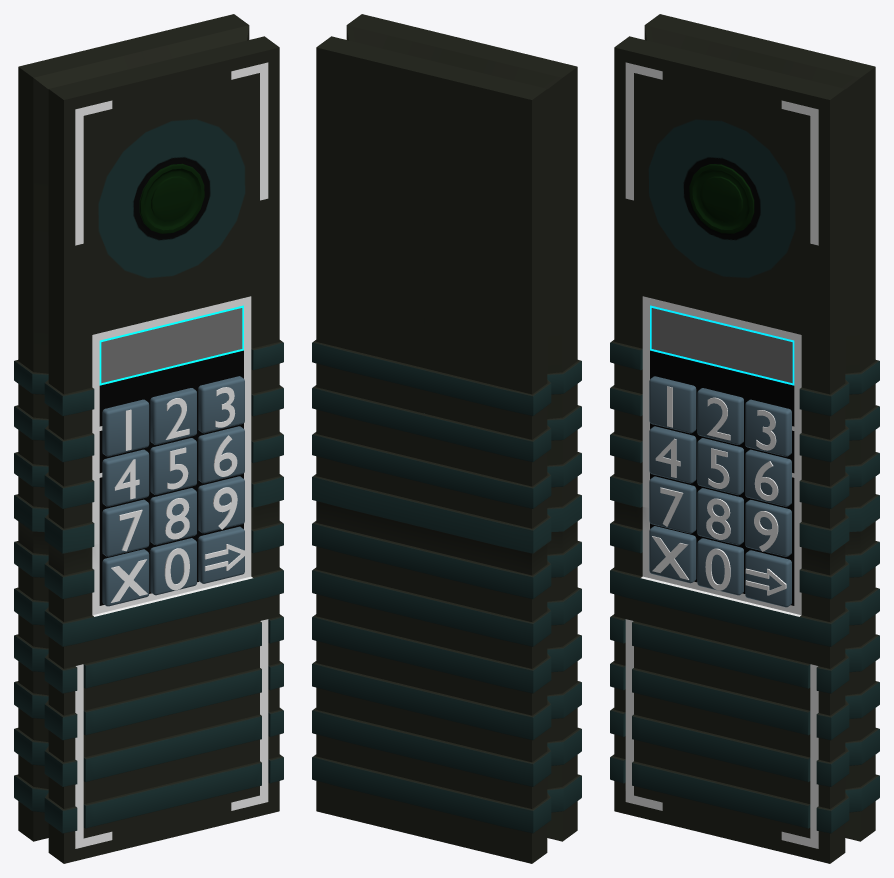
Rendered from Lock.fbx.
3 views of the same model, side by side, from view 1: azimuth 30°, elevation 25°; view 2: azimuth 150°, elevation 25°; view 3: azimuth 330°, elevation 25° (orthographic).
Visible parts, largest first — view 1: Lock; view 2: Lock; view 3: Lock.
Part boxes in pixels (x1,y1,x2,y2): Lock: (14, 14, 283, 863); Lock: (312, 14, 581, 863); Lock: (610, 14, 879, 863).
Size of the model in its own units: 41.31 by 136 by 17.12.
